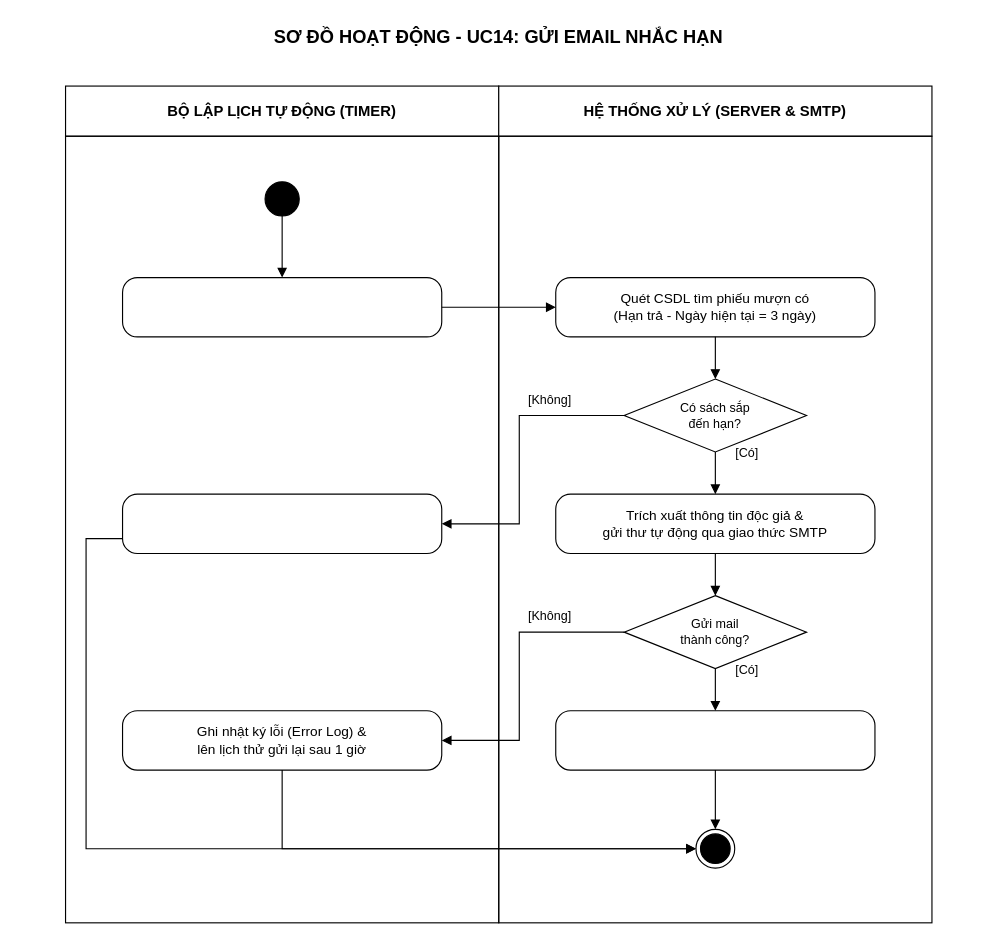
Image size: 996x943. Some labels were removed from this diagram. Here are the shapes that lost their labels. From the top down, the centre of each, then its label:
(x=281, y=306): Kích hoạt tiến trình quét định kỳ (06:00 sáng mỗi ngày)
(x=281, y=523): Ghi log: "Không có độc giả cần nhắc hạn hôm nay"
(x=715, y=740): Ghi nhật ký hệ thống: "Đã gửi email nhắc hạn thành công"
